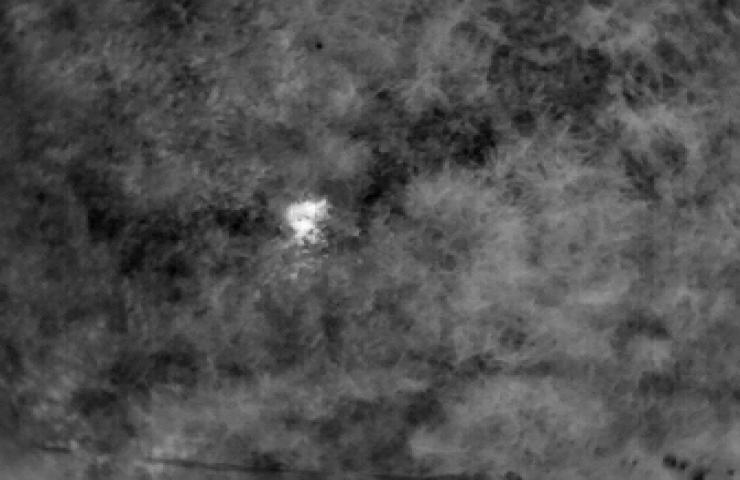landmines: (283, 196, 337, 248)
